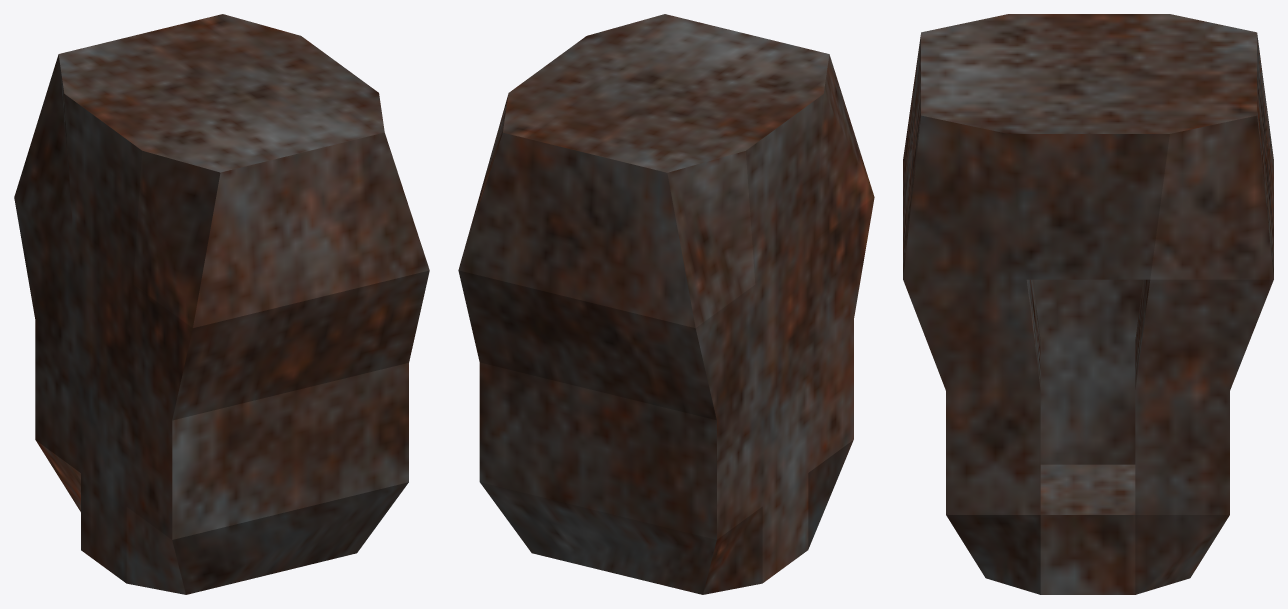
The model's file is keylock.fbx.
3 renders of one model, left to right at view 1: azimuth 30°, elevation 25°; view 2: azimuth 150°, elevation 25°; view 3: azimuth 270°, elevation 25°, orthographic. The views are drawn at different scales.
Visible parts, largest first — view 1: Cube; view 2: Cube; view 3: Cube.
Boxes of the visible parts, <box> form: Cube: <box>14,14,429,594</box>; Cube: <box>458,14,874,594</box>; Cube: <box>903,14,1273,594</box>.
Bounding box in the file's own units: 200 × 358 × 261.
1 material, 1 textured.
